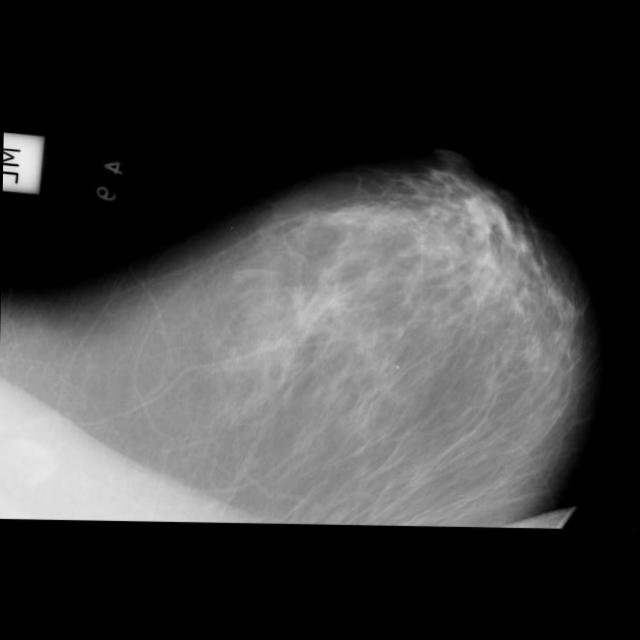ARCH: (278, 266, 355, 344)
